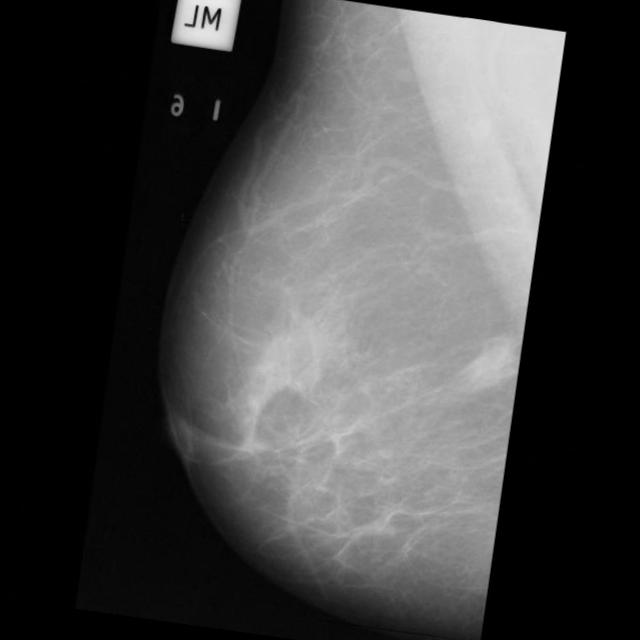MISC: (452, 324, 531, 403)
